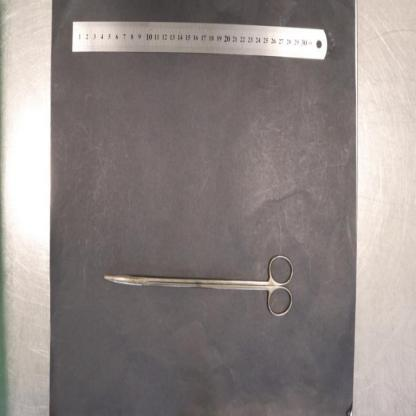9 Metzenbaum Scissors: (105, 252, 294, 318)
